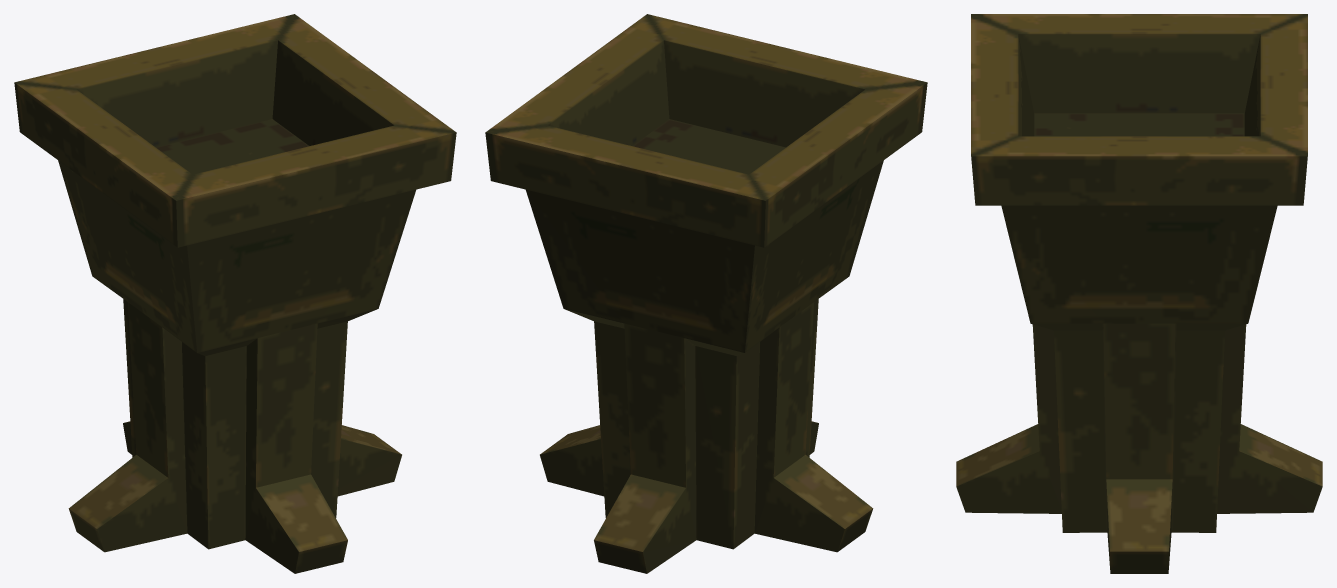
File: catacomb_brazier_02_8d650680.glb
3 renders of one model, left to right at view 1: azimuth 30°, elevation 25°; view 2: azimuth 150°, elevation 25°; view 3: azimuth 270°, elevation 25°, orthographic. The views are drawn at different scales.
Size of the model in its own units: 1.43 by 1.79 by 1.43.
Materials: 1 (1 with a texture image).
